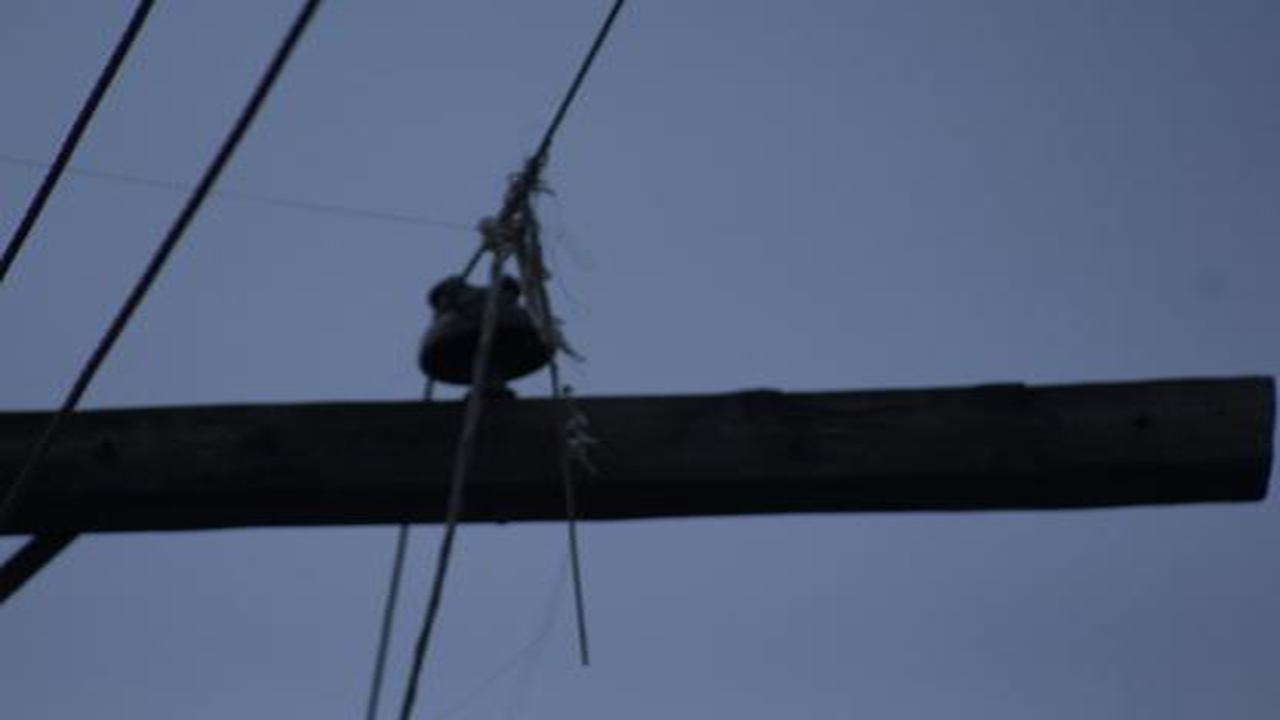insulator_pin: (412, 267, 571, 399)
